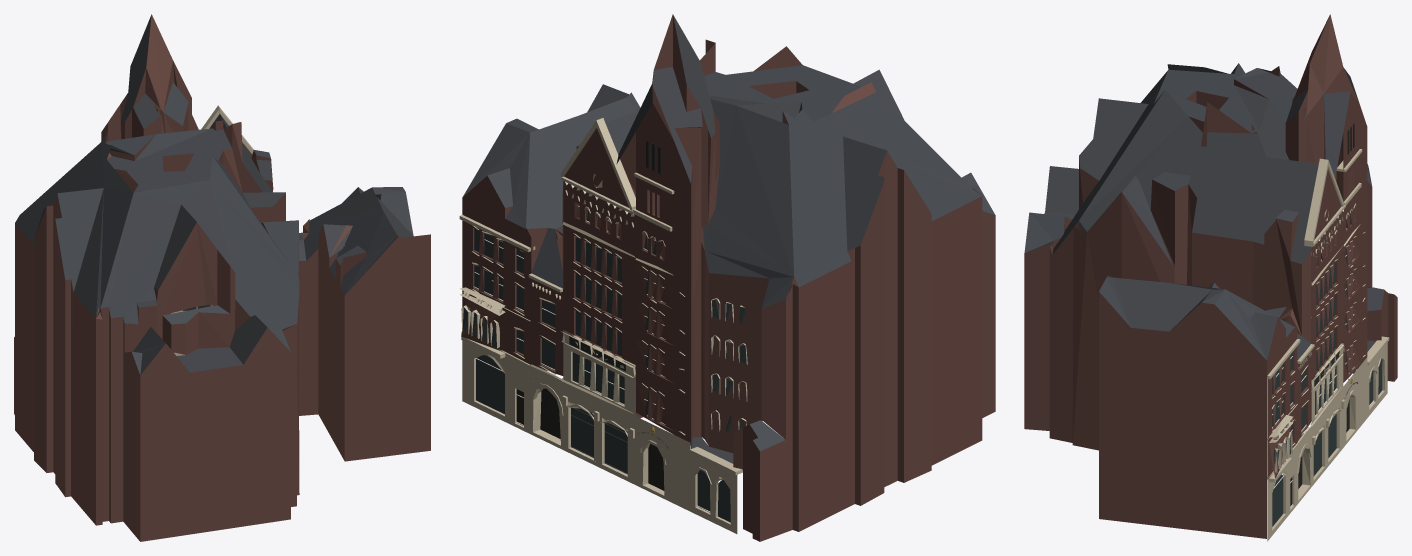
Rendered from industrieele-groote-club.lod1.glb.
The picture shows the model from 3 angles, left to right: view 1: azimuth 30°, elevation 25°; view 2: azimuth 150°, elevation 25°; view 3: azimuth 270°, elevation 25°; orthographic projection. The views are drawn at different scales.
Parts seen in each view (by area): view 1: industrieele-groote-club; view 2: industrieele-groote-club; view 3: industrieele-groote-club.
Part boxes in pixels (x1,y1,x2,y2): industrieele-groote-club: (14,14,430,541); industrieele-groote-club: (459,14,995,541); industrieele-groote-club: (1024,14,1397,541).
Bounding box in the file's own units: 41.19 × 42.88 × 34.43.
